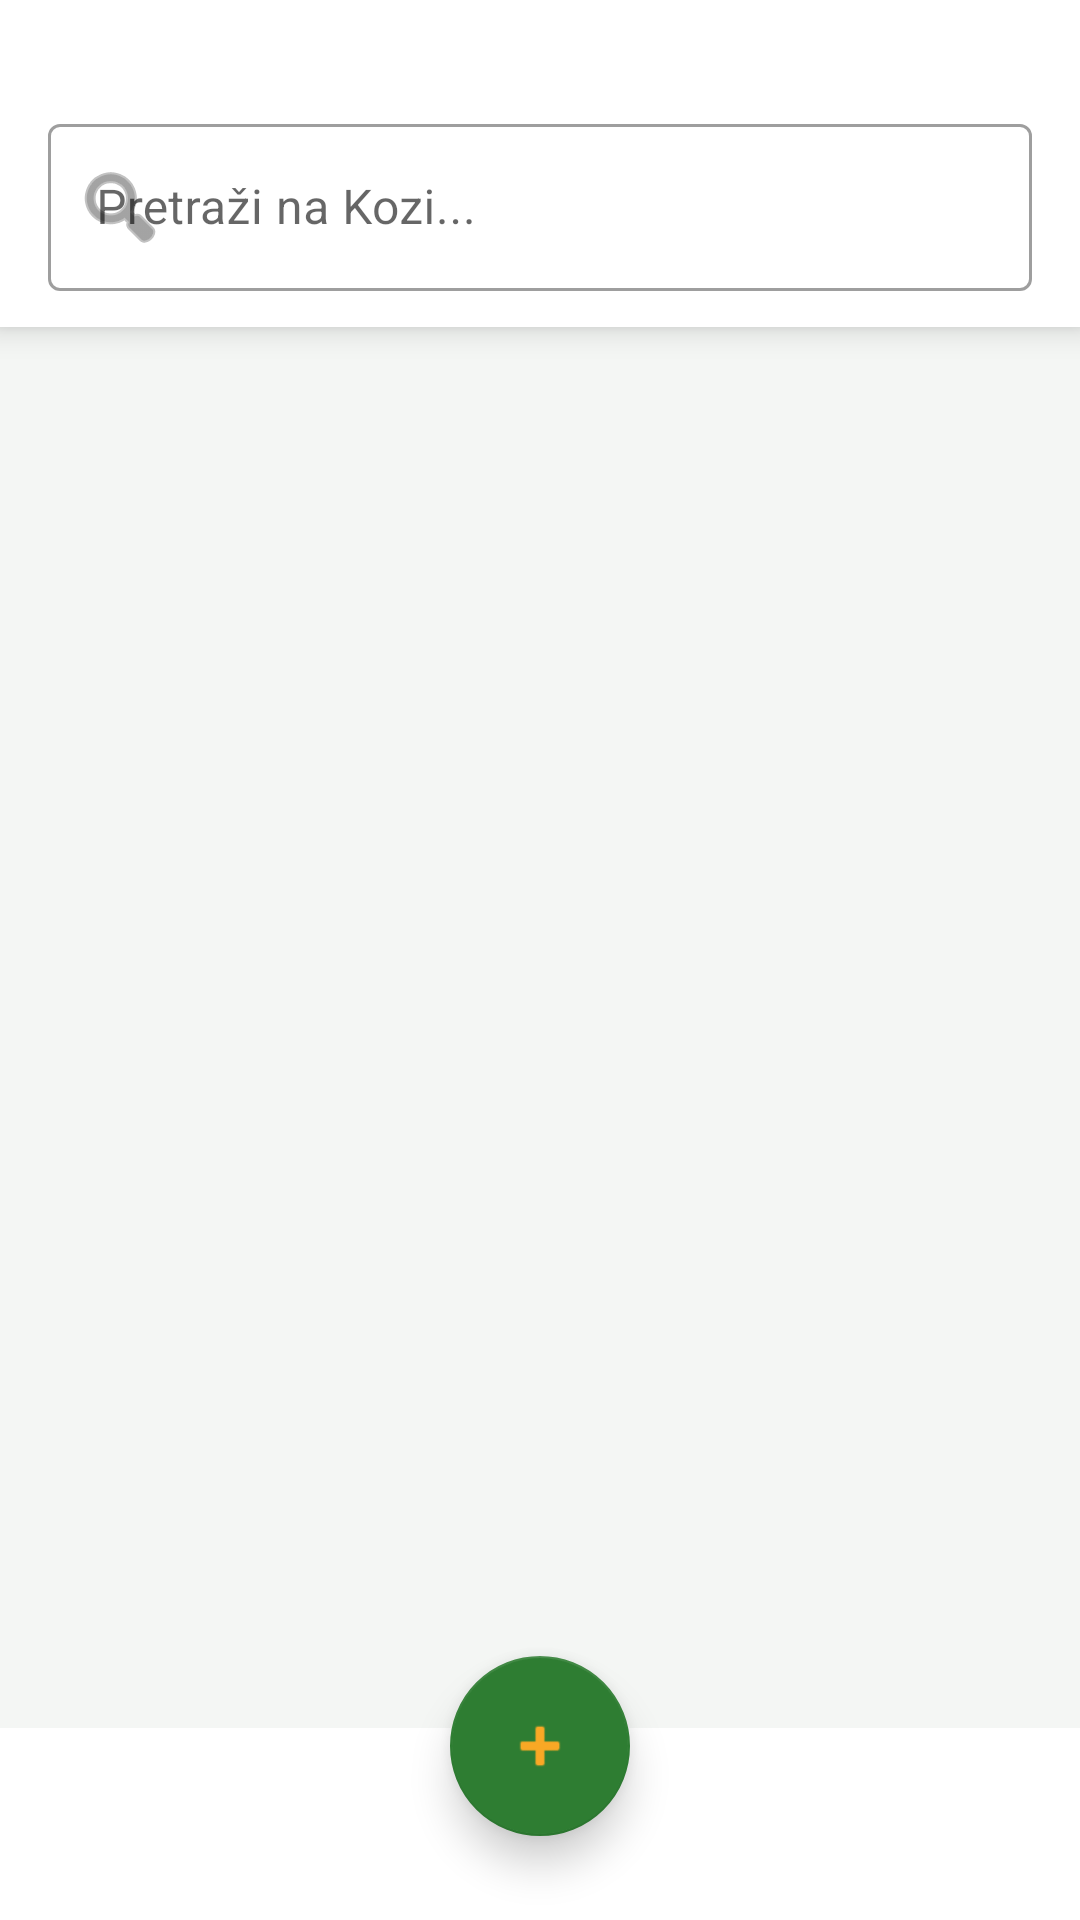

Where icons sit on this 1080w x 1920h app screen, as (x1, y1, x2, y2):
Dodaj oglas: (450, 1656, 630, 1836)
